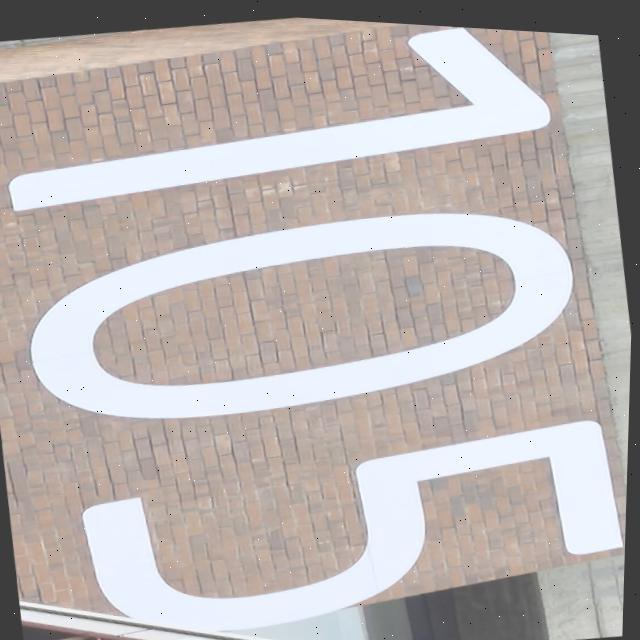character: (3, 167, 598, 469), (58, 383, 629, 640), (0, 0, 565, 248)
